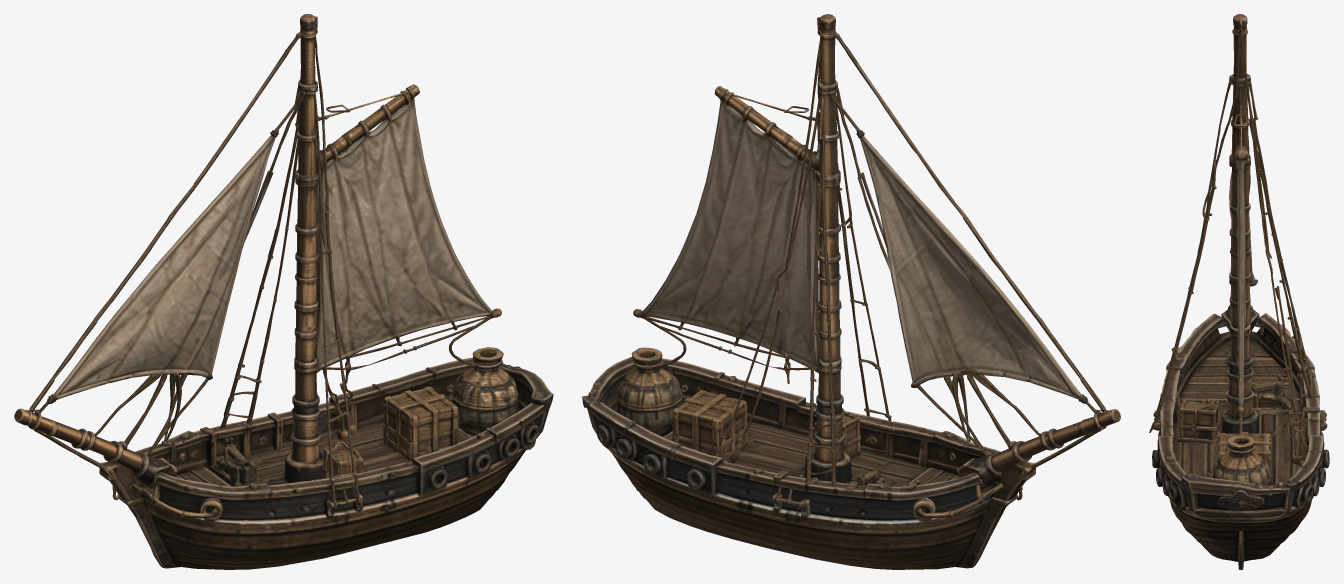
The model's file is old_harbor_trader.glb.
3 views of the same model, side by side, from view 1: azimuth 30°, elevation 25°; view 2: azimuth 150°, elevation 25°; view 3: azimuth 270°, elevation 25° (orthographic). The views are drawn at different scales.
Visible parts, largest first — view 1: output_unwrapped; view 2: output_unwrapped; view 3: output_unwrapped.
Boxes of the visible parts, x1=… form: output_unwrapped: x1=14, y1=14, x2=553, y2=569; output_unwrapped: x1=582, y1=14, x2=1120, y2=569; output_unwrapped: x1=1149, y1=14, x2=1329, y2=569.
Size of the model in its own units: 1.9 by 1.83 by 0.6344.
Materials: 1 (1 with a texture image).
